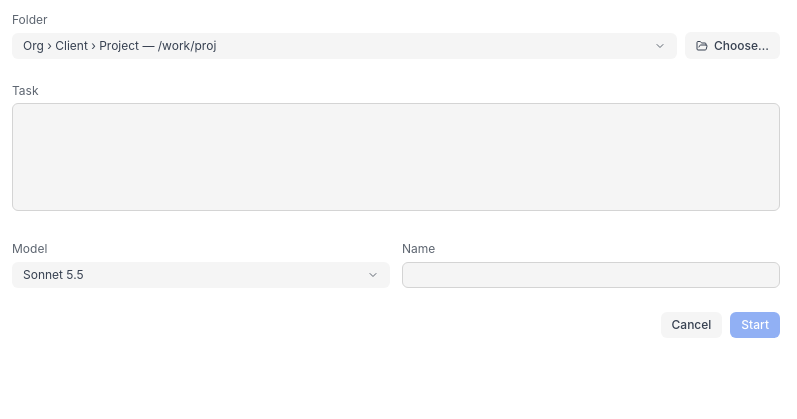
Test: StartAgentForm › shows a translated error inline and logs the command's error
Expected: the text "Org › Client › Project — /work/proj" is shown, [23,38,216,53]
Type "Do it" into the text box labelled "Task" at (396, 157), box [12,103,780,210]
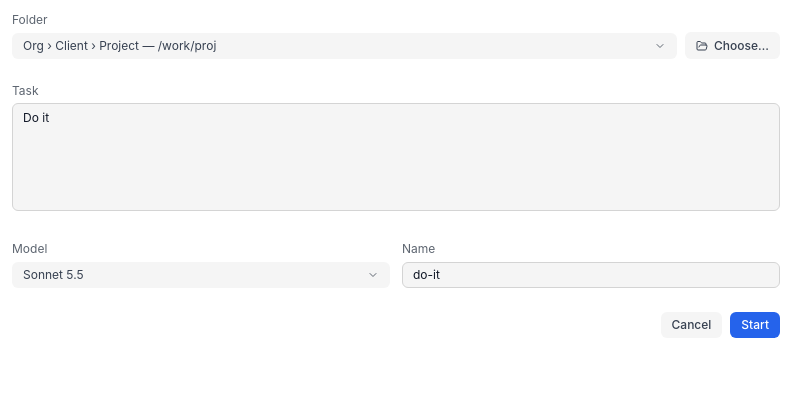
Click the button "Start" at (755, 324), box [730,312,780,338]
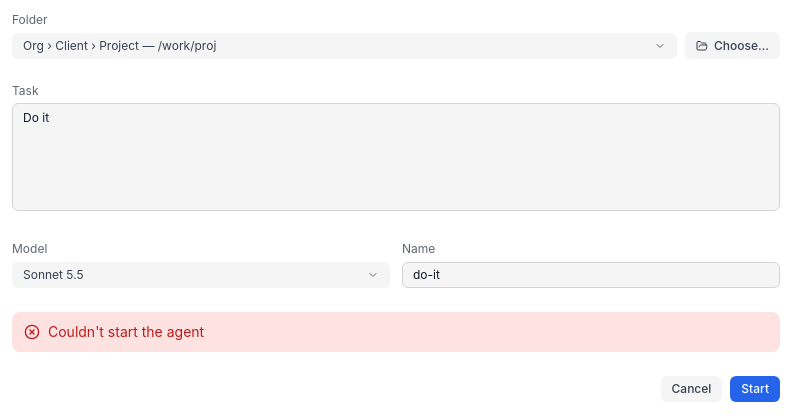
Expected: the message does not show "Folder is not trusted", [12,312,780,352]
Expected: the message reads "Couldn't start the agent", [48,322,204,340]
